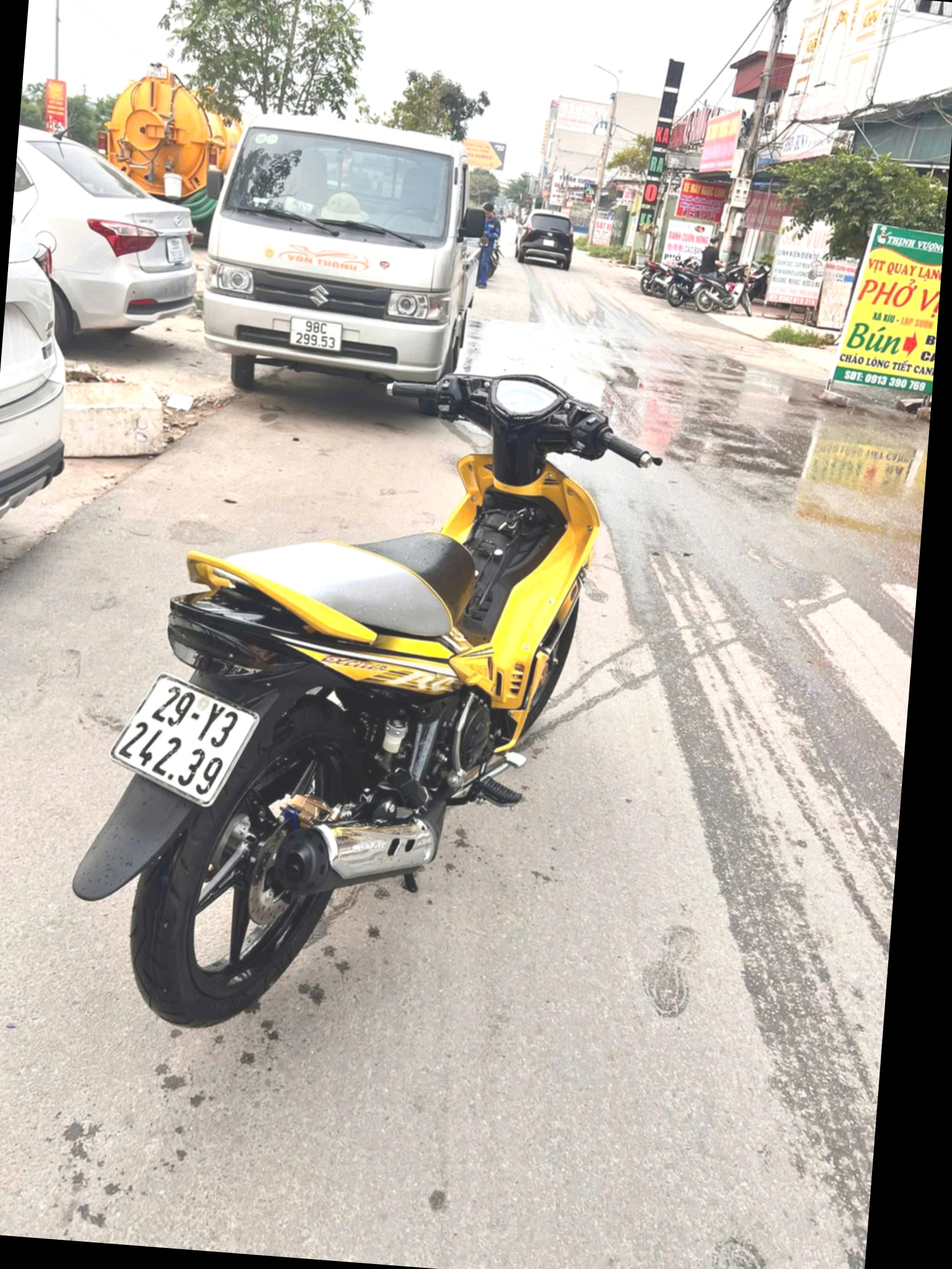Bien-so: (127, 713, 285, 848)
